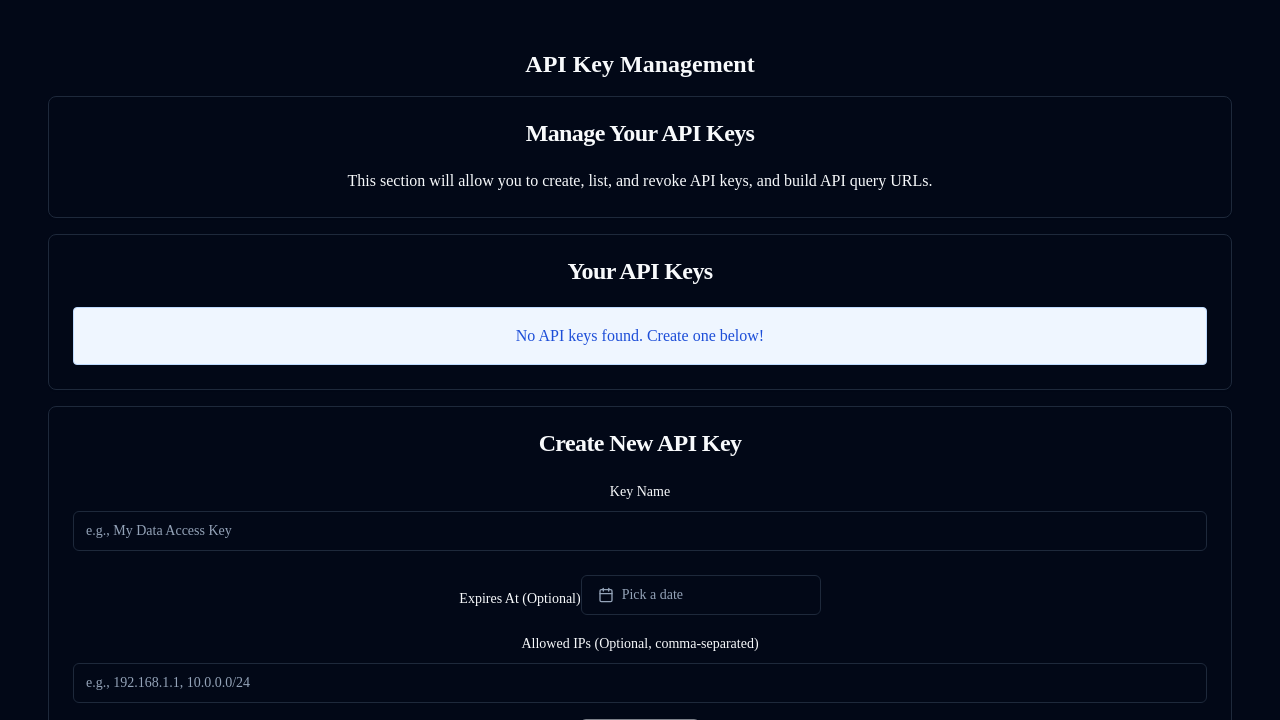
ApiKeyManagementPage › creates a new API key successfully
In the field labelled "Key Name": (640, 531) [73, 511, 1207, 551], type "New Key"
(page scrolled)
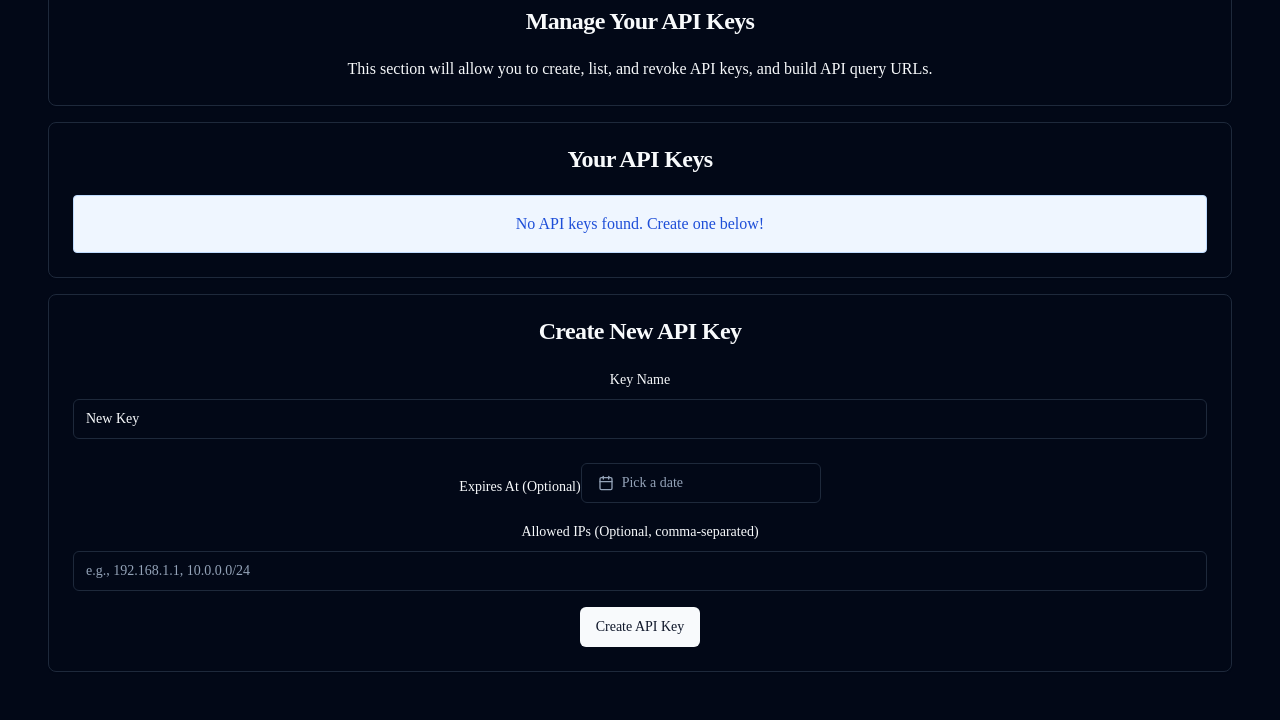
Click the button "Create API Key": (640, 627) [580, 607, 700, 647]
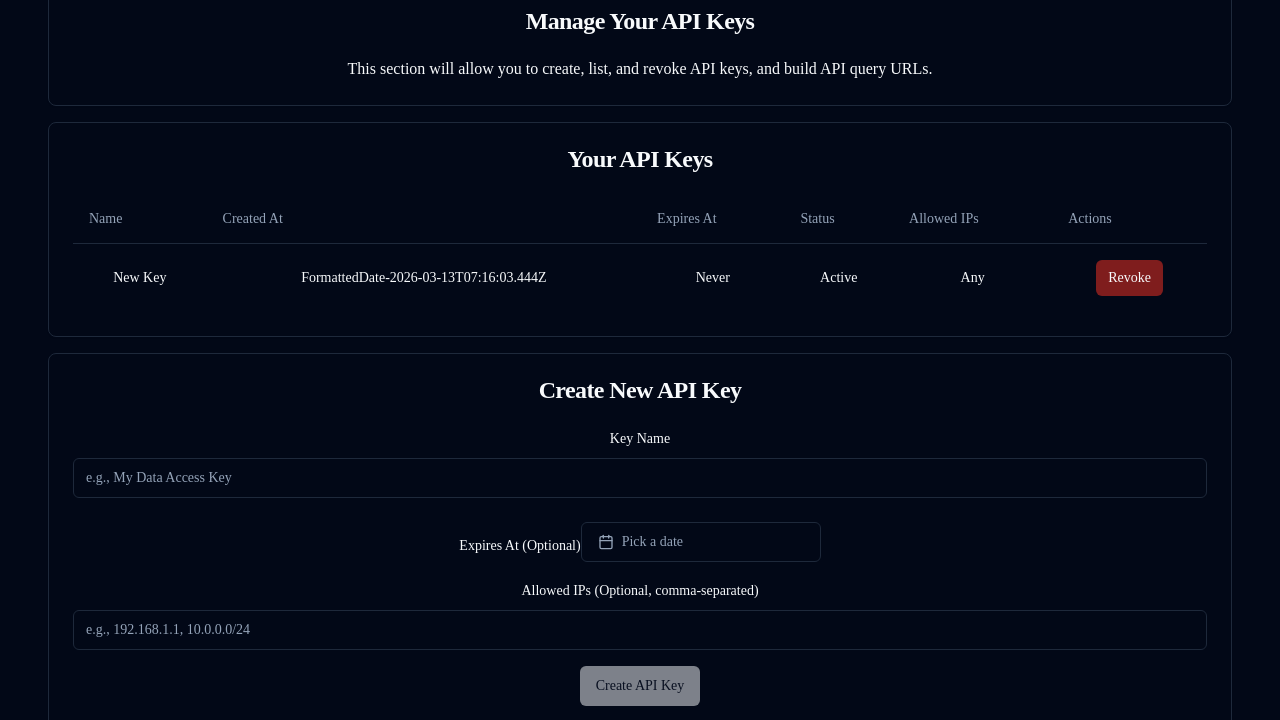
Now the text "New Key" is shown, box [73, 243, 207, 312]
